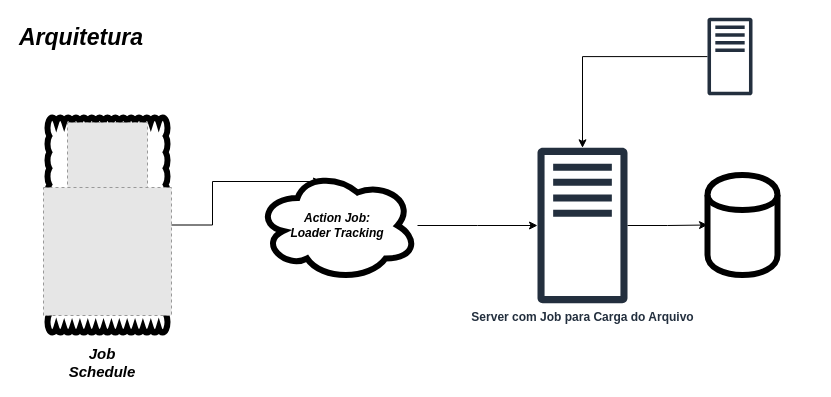
Some shapes in this 831 by 397 pixel diagram are drawn without their labels. Grey dashed boxes stand in for pictures. Each missing label, with the centre of its shape:
"DB" goes at (742,225).
"Servidor com os documentos" goes at (729,56).
